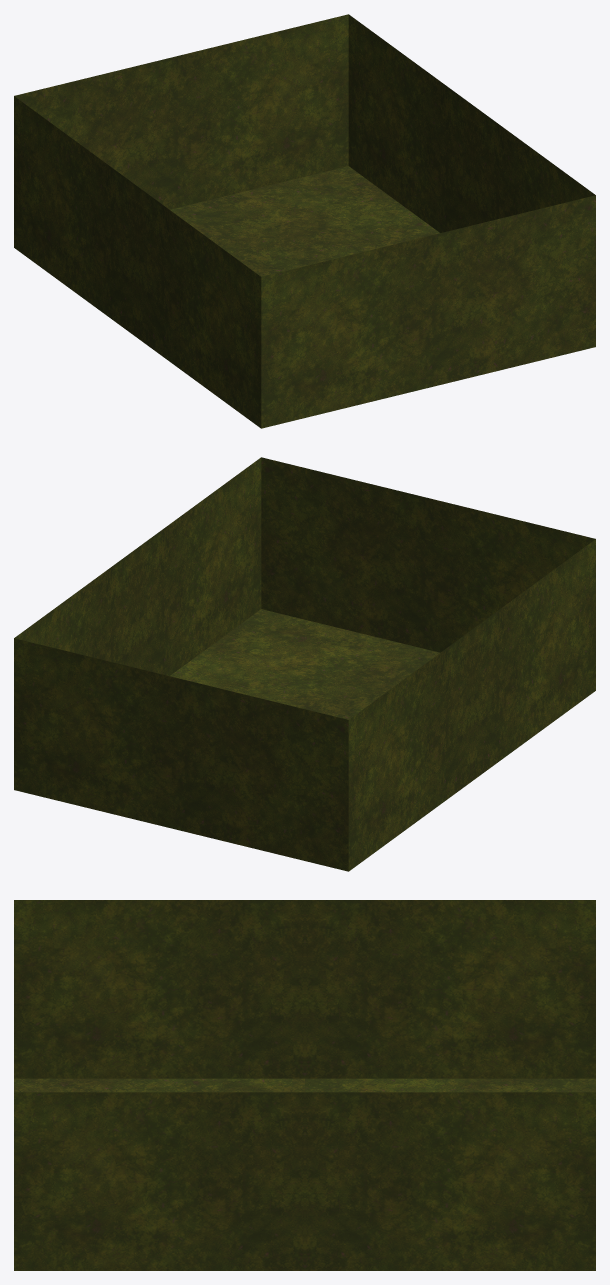
The model's file is testmap3.obj.
3 renders of one model, top to bottom at view 1: azimuth 30°, elevation 25°; view 2: azimuth 150°, elevation 25°; view 3: azimuth 270°, elevation 25°, orthographic. The views are drawn at different scales.
Parts seen in each view (by area): view 1: node_id7, node_id010; view 2: node_id010, node_id7; view 3: node_id7, node_id010.
Part boxes in pixels (<box>): node_id7: <box>14,14,472,337</box>; node_id010: <box>137,105,595,428</box>; node_id010: <box>137,457,595,780</box>; node_id7: <box>14,548,472,871</box>; node_id7: <box>305,900,595,1270</box>; node_id010: <box>14,900,304,1270</box>.
Size of the model in its own units: 5760 by 2496 by 7370.
